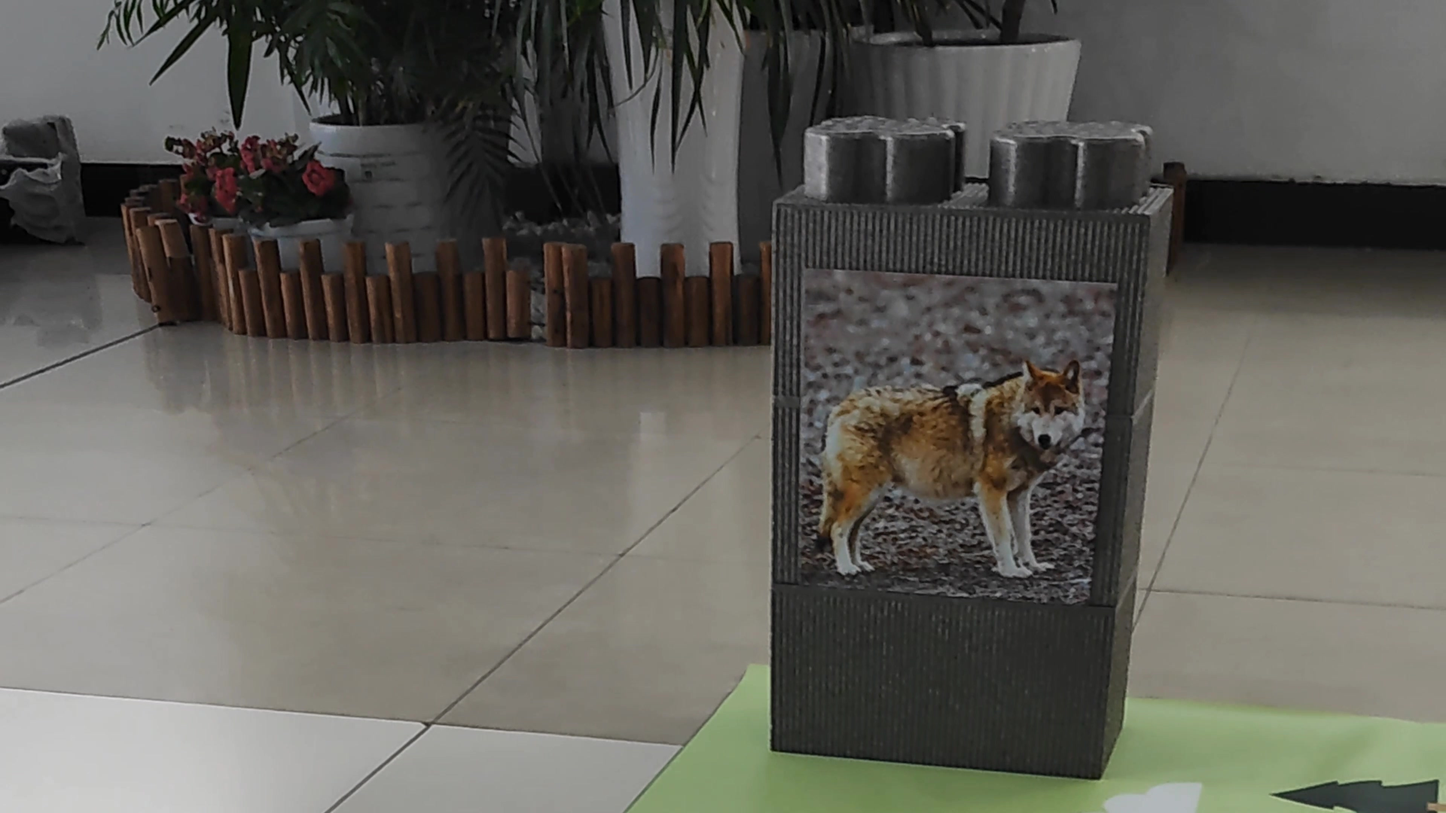wolf: (801, 321, 1085, 601)
